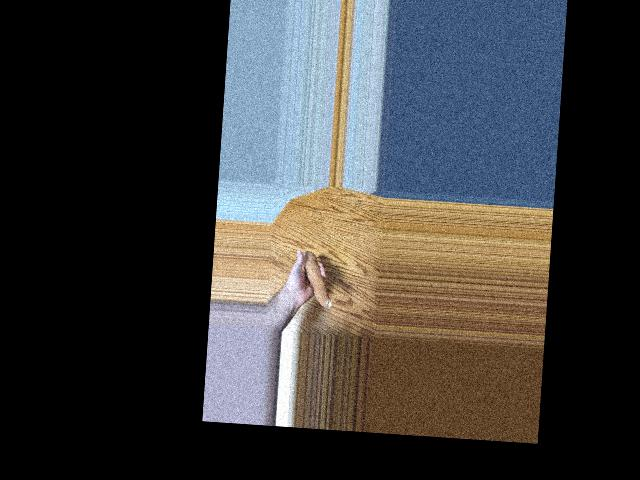sweet_potato: (302, 248, 334, 309)
